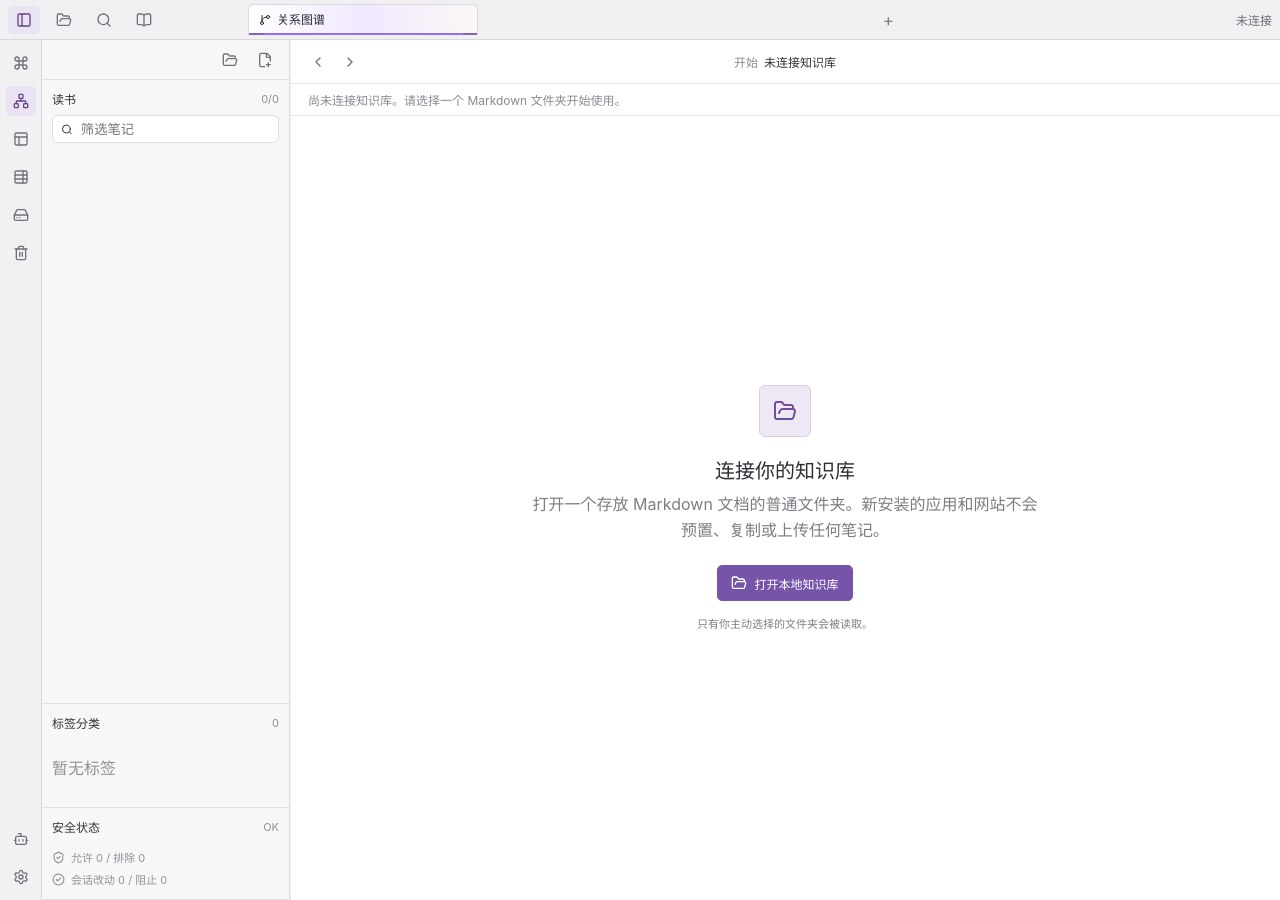
Test: KnowledgeWorkspace navigation › starts with the Agent panel collapsed and opens it only on demand
Click the button named "智能体" at (20, 839), box x1=6 y1=824 x2=36 y2=854
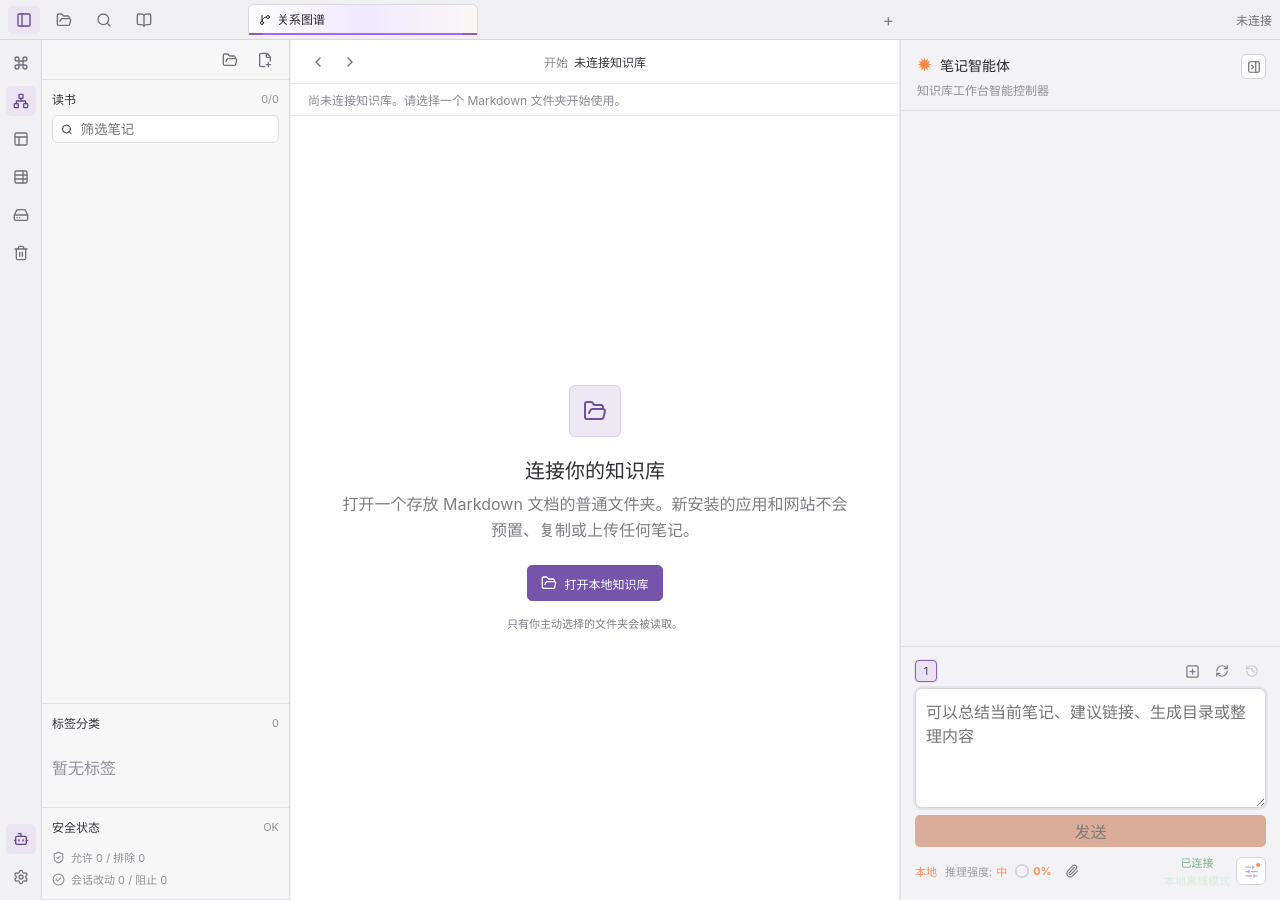
Check: the element with class "agent-console" is shown, box x1=900 y1=40 x2=1279 y2=899
